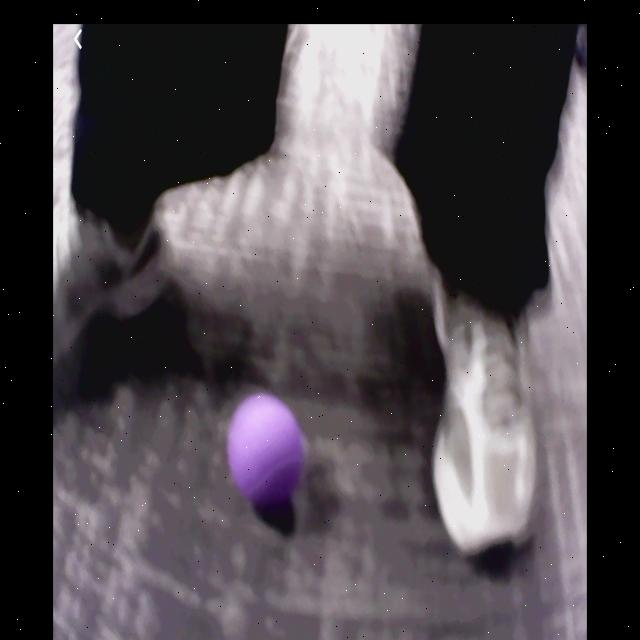ball: (230, 395, 302, 514)
